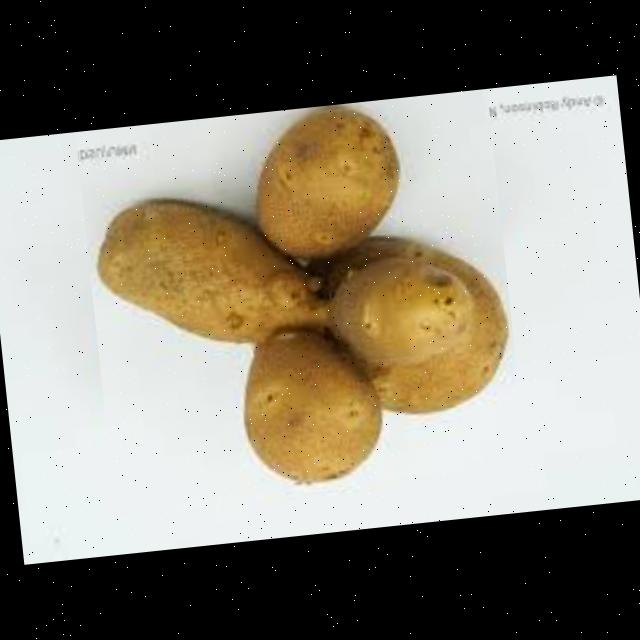Damaged potato: (75, 89, 526, 508)
